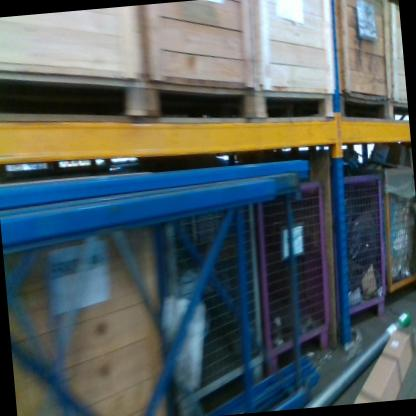stillage: (156, 192, 274, 416), (252, 179, 338, 373), (337, 171, 393, 324), (375, 162, 416, 300)
